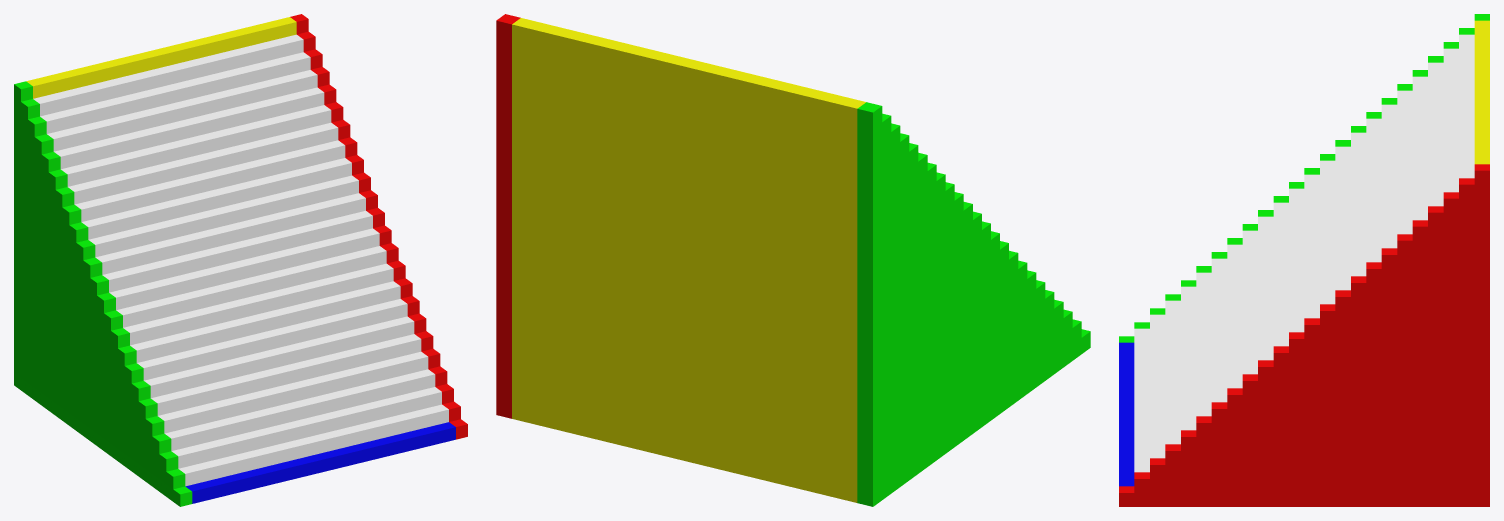
Rendered from 24voxCube.obj.
3 views of the same model, side by side, from view 1: azimuth 30°, elevation 25°; view 2: azimuth 150°, elevation 25°; view 3: azimuth 270°, elevation 25° (orthographic). The views are drawn at different scales.
Bounding box in the file's own units: 2.4 × 2.4 × 2.4.
1 material, 1 textured.
